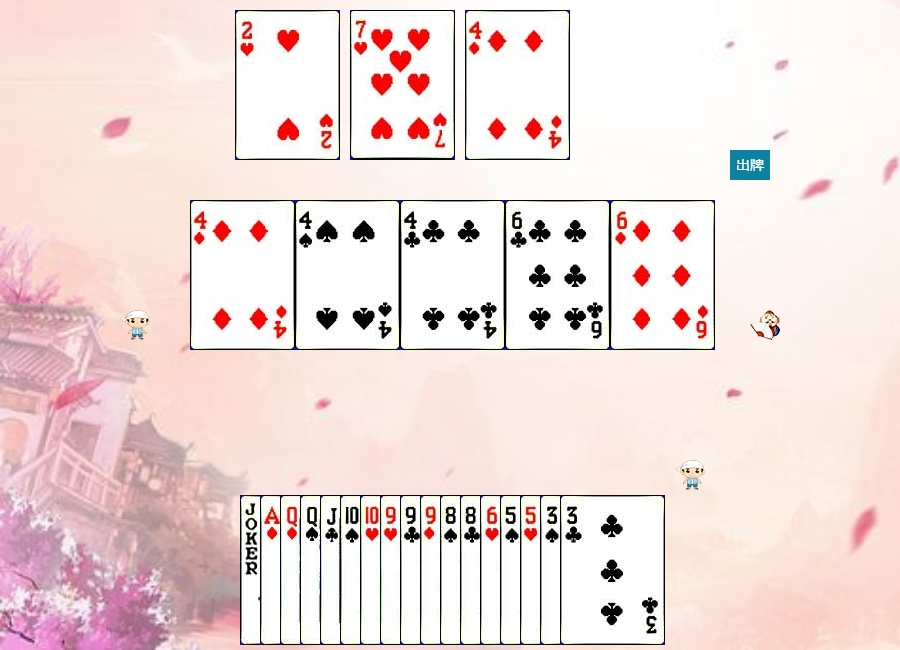10~3: (360, 495, 465, 645)
10~4: (340, 495, 445, 645)
11~2: (320, 495, 425, 645)
12~1: (280, 495, 385, 645)
12~4: (300, 495, 405, 645)
14~1: (260, 495, 365, 645)
15~3: (235, 10, 340, 160)
17~3: (240, 495, 345, 645)
3~2: (560, 495, 665, 645)
3~4: (540, 495, 645, 645)
4~1: (465, 10, 570, 160), (190, 200, 295, 350)
4~2: (400, 200, 505, 350)
4~4: (295, 200, 400, 350)
5~3: (520, 495, 625, 645)
5~4: (500, 495, 605, 645)
6~1: (610, 200, 715, 350)
6~2: (505, 200, 610, 350)
6~3: (480, 495, 585, 645)
7~3: (350, 10, 455, 160)
8~2: (460, 495, 565, 645)
8~4: (440, 495, 545, 645)
9~1: (420, 495, 525, 645)
9~2: (400, 495, 505, 645)
9~3: (380, 495, 485, 645)
